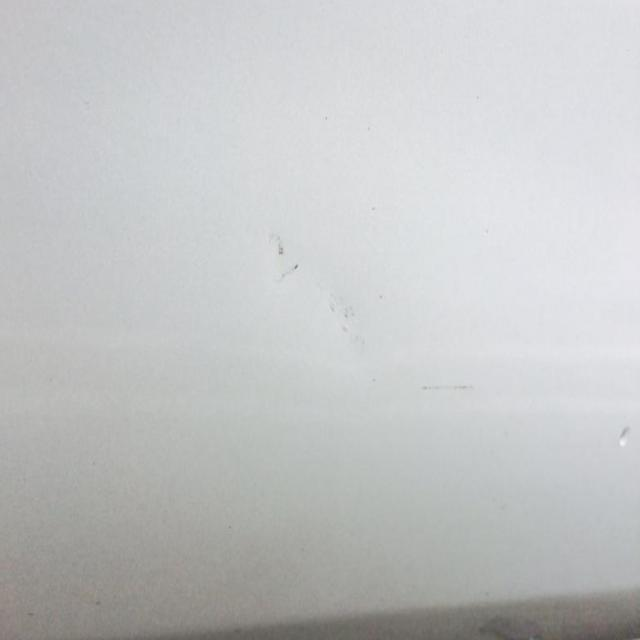dents: (235, 205, 394, 396)
